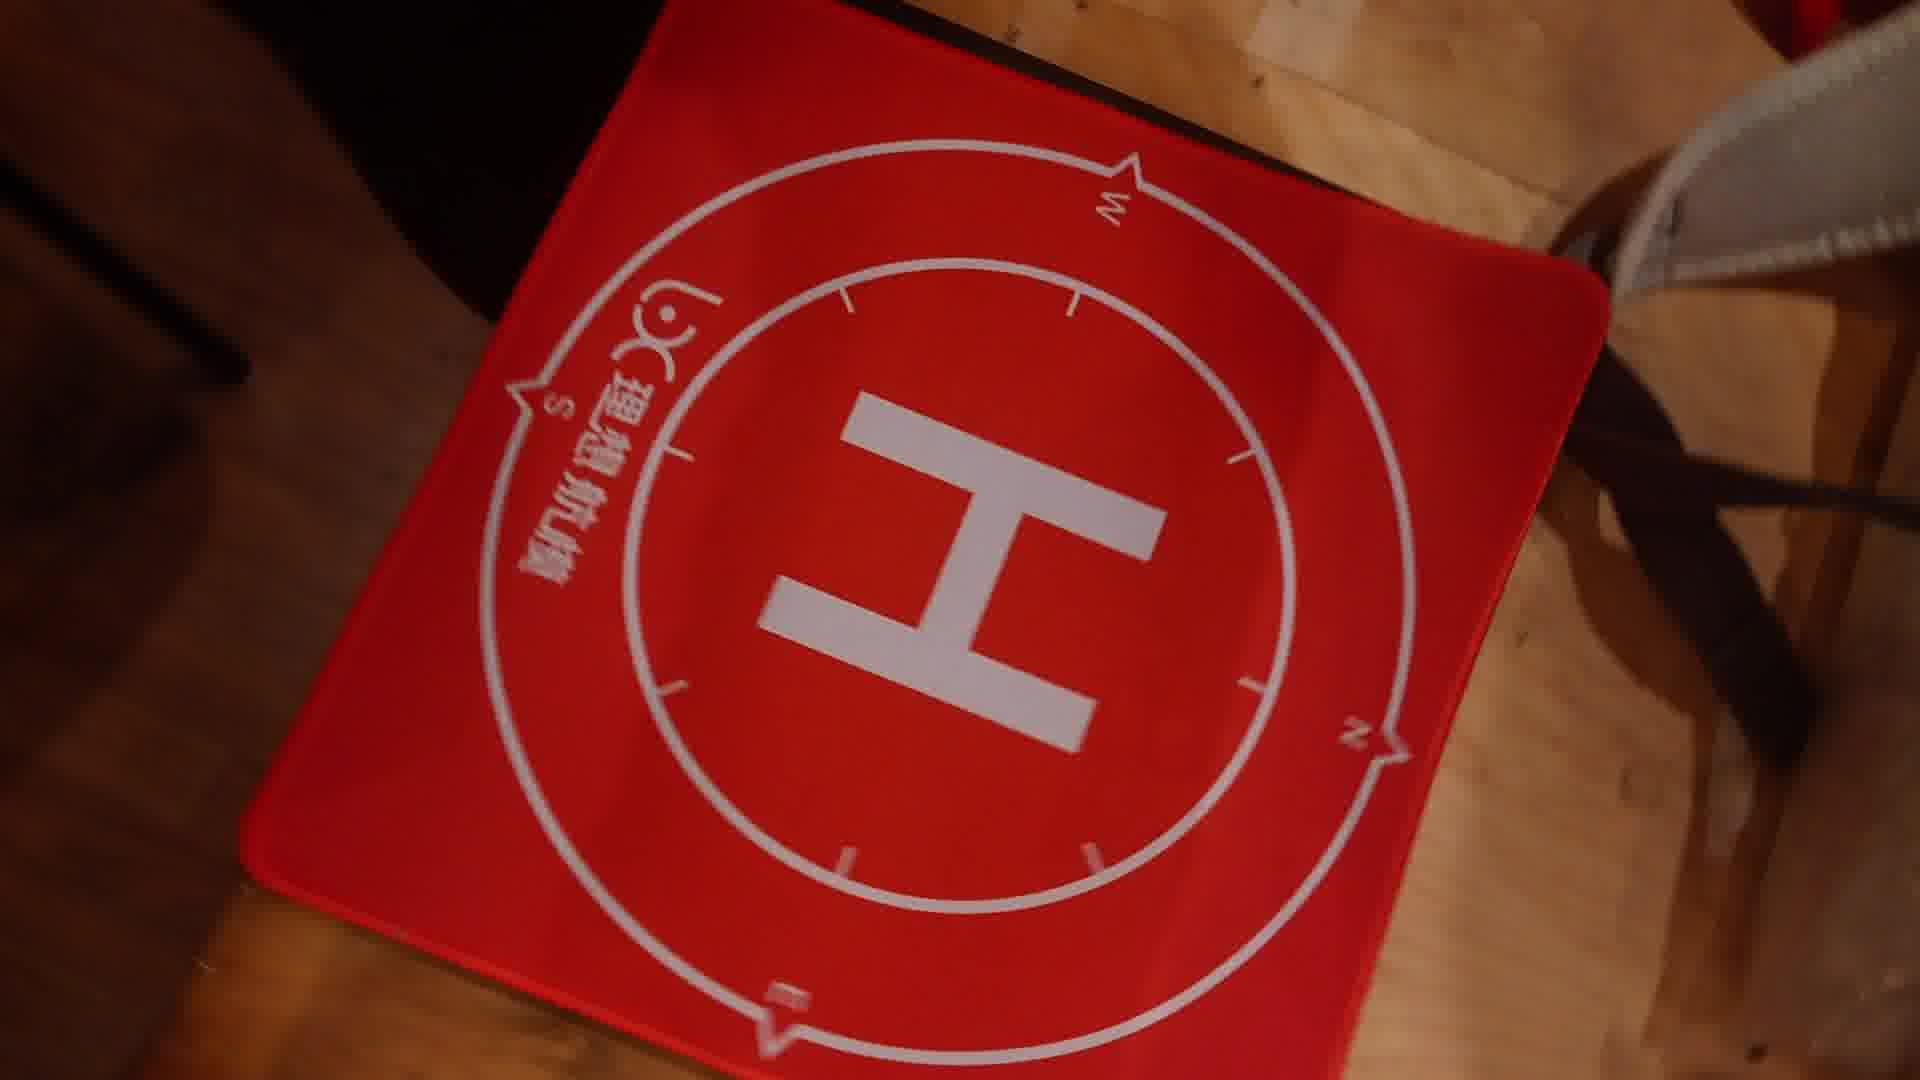H: (754, 385, 1168, 761)
